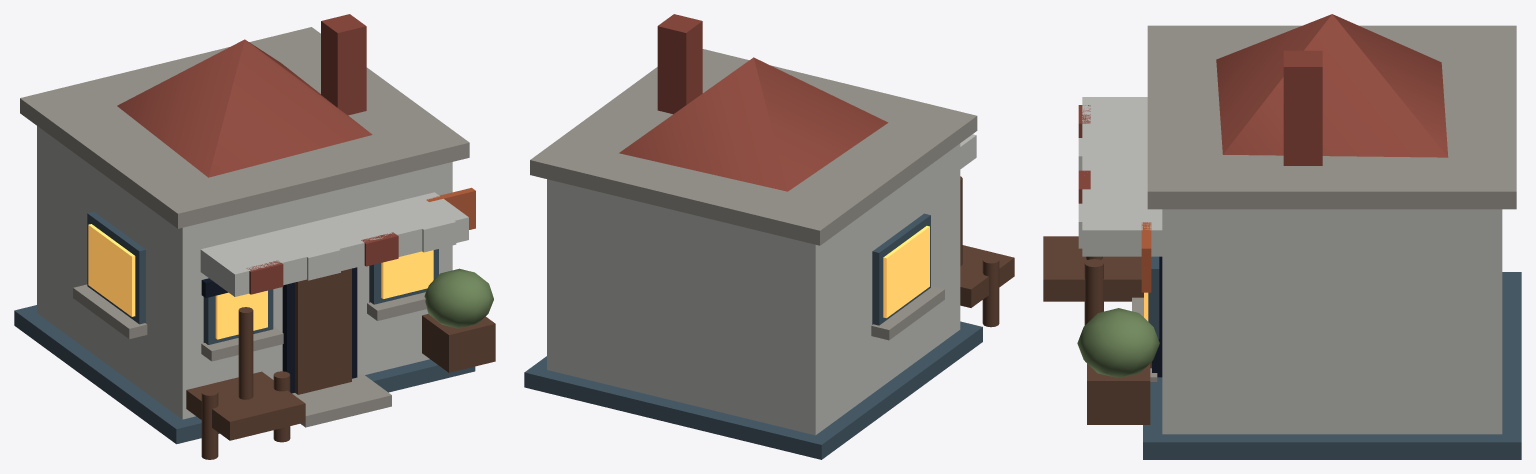
Rendered from cafe-corner.glb.
3 views of the same model, side by side, from view 1: azimuth 30°, elevation 25°; view 2: azimuth 150°, elevation 25°; view 3: azimuth 270°, elevation 25° (orthographic). The views are drawn at different scales.
Parts seen in each view (by area): view 1: CafeShell, CafeWindowGlow; view 2: CafeShell, CafeWindowGlow; view 3: CafeShell.
Boxes of the visible parts, x1,y1,x2,y2 form: CafeShell: (14, 14, 495, 459); CafeWindowGlow: (88, 224, 433, 339); CafeShell: (524, 14, 1014, 459); CafeWindowGlow: (883, 226, 929, 318); CafeShell: (1043, 14, 1521, 459).
Size of the model in its own units: 1.71 by 1.68 by 1.97.
